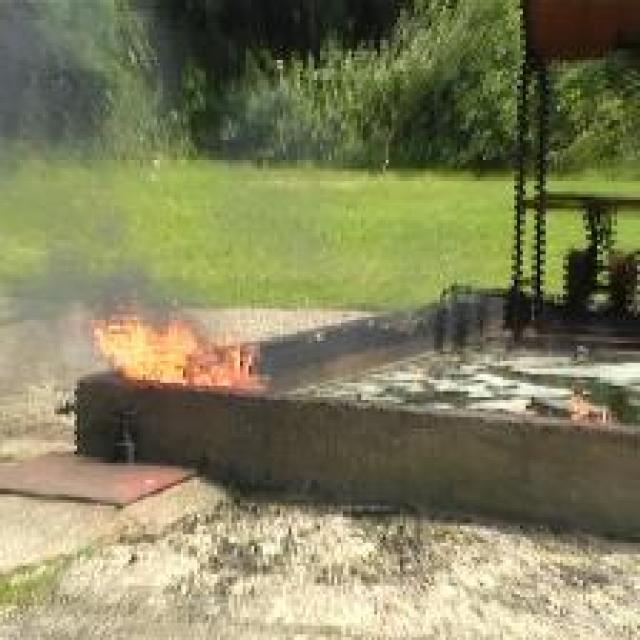Fire: (90, 304, 264, 392)
